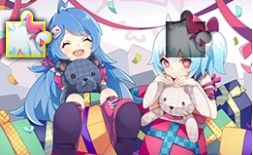gap: (165, 10, 211, 58)
